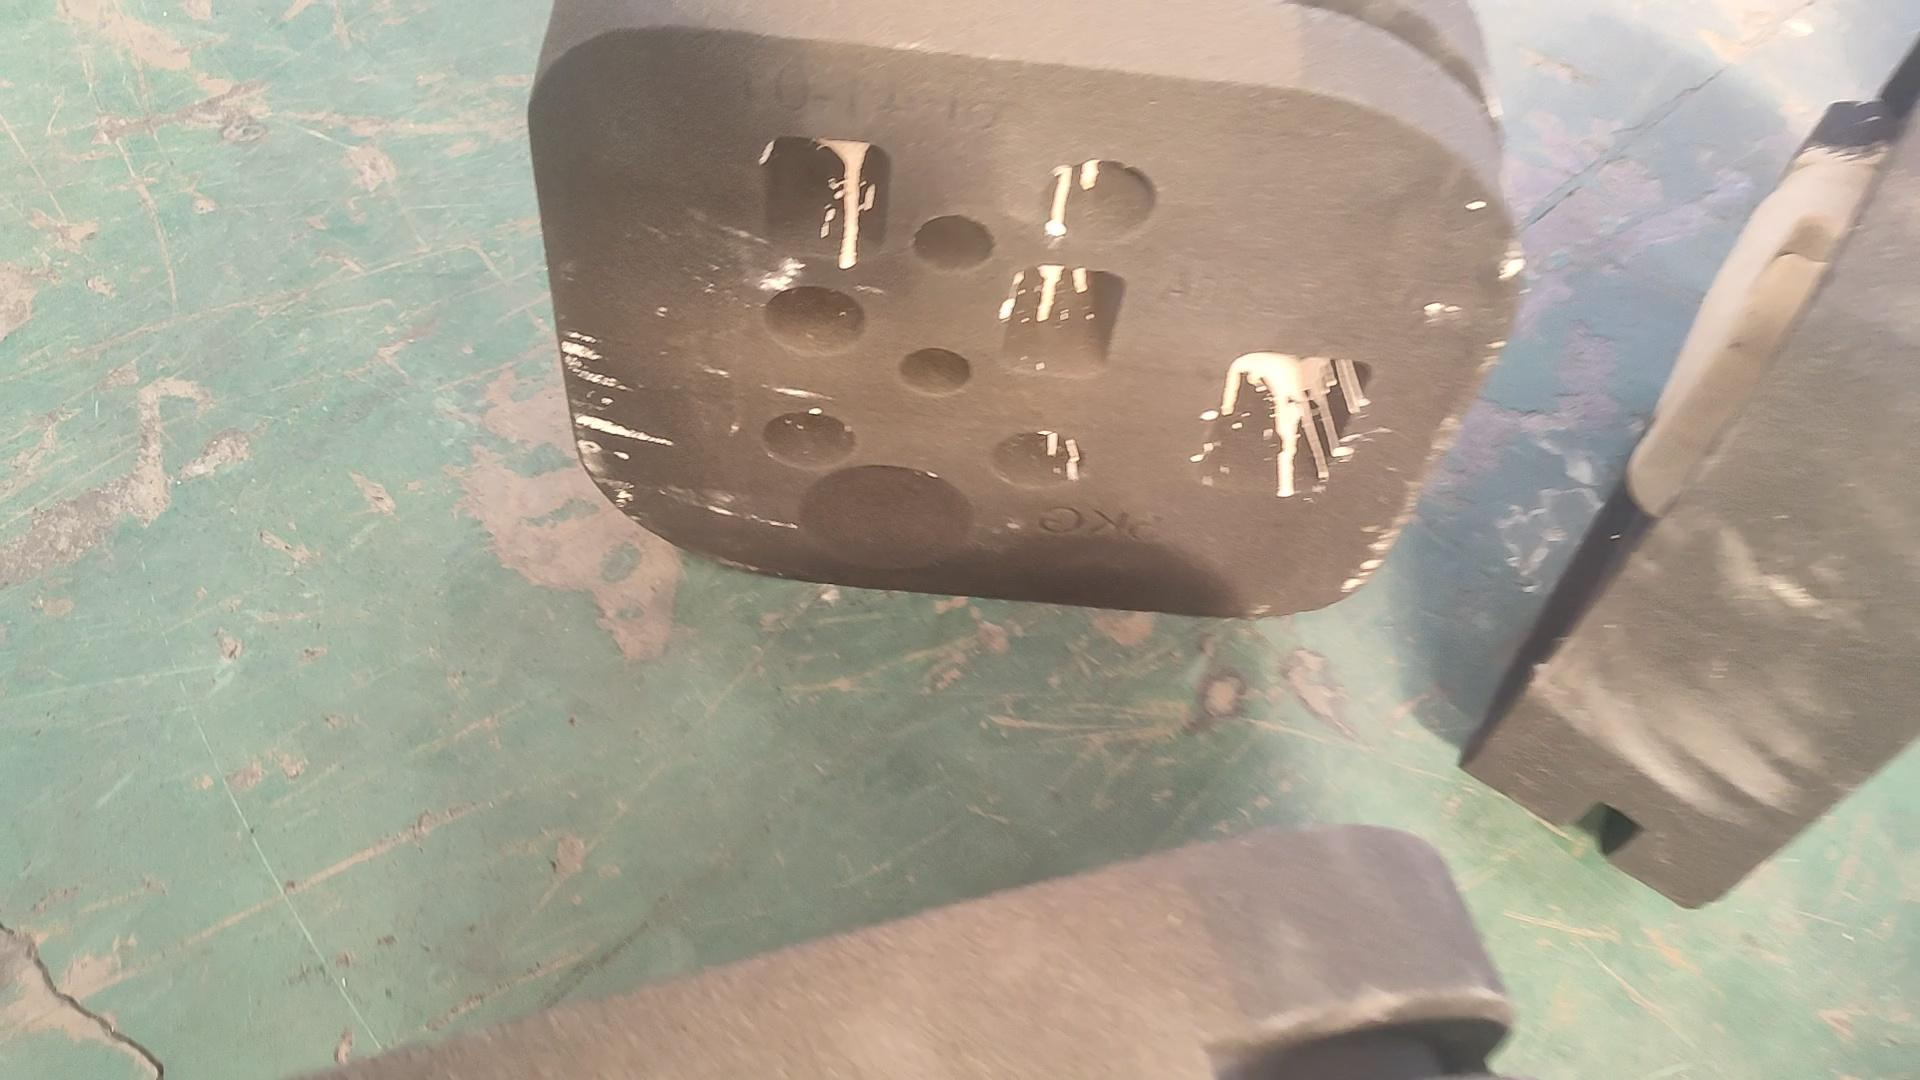pouring hole: (800, 465, 975, 570)
